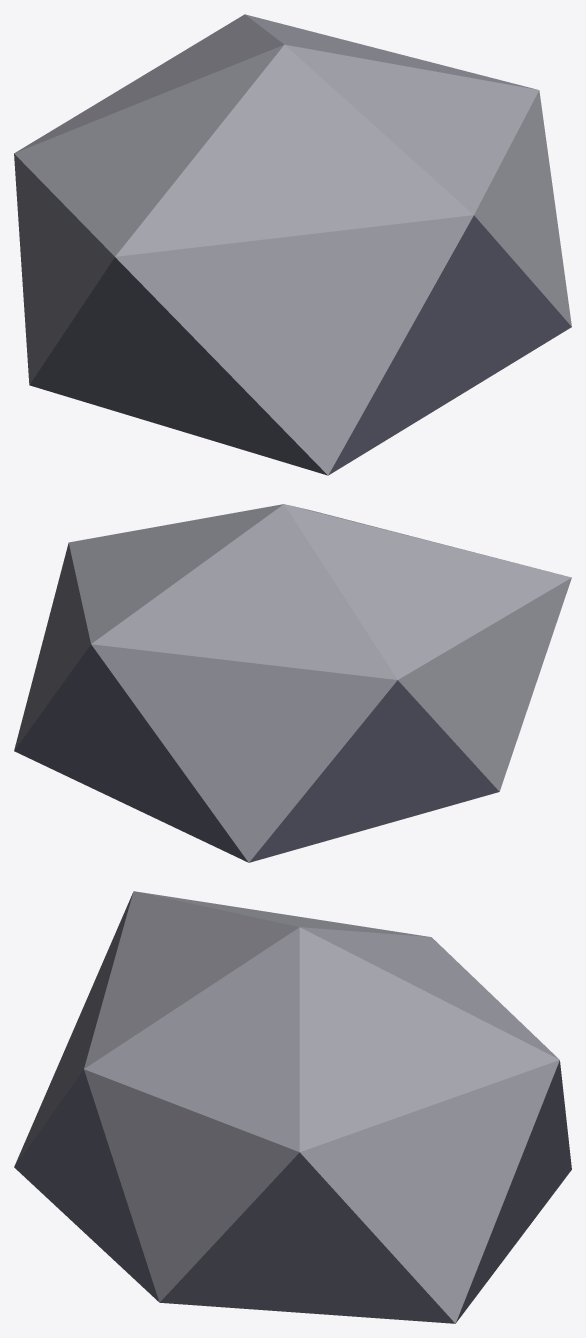
The model's file is RockLarge.fbx.
3 views of the same model, one above another, from view 1: azimuth 30°, elevation 25°; view 2: azimuth 150°, elevation 25°; view 3: azimuth 270°, elevation 25° (orthographic). The views are drawn at different scales.
Visible parts, largest first — view 1: RockLarge; view 2: RockLarge; view 3: RockLarge.
Part boxes in pixels (x1,y1,x2,y2): RockLarge: (14, 14, 571, 475); RockLarge: (14, 504, 571, 862); RockLarge: (14, 891, 571, 1323).
Size of the model in its own units: 2.36 by 1.32 by 2.3.
1 material, 1 textured.
